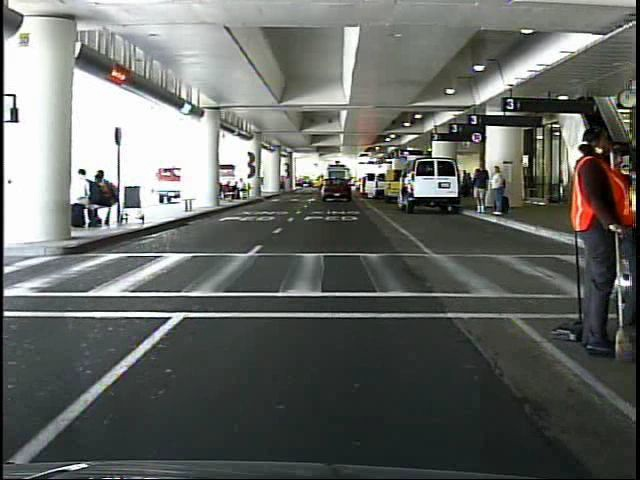person: (566, 119, 632, 359), (489, 161, 510, 222), (472, 155, 491, 218), (317, 170, 328, 194)
